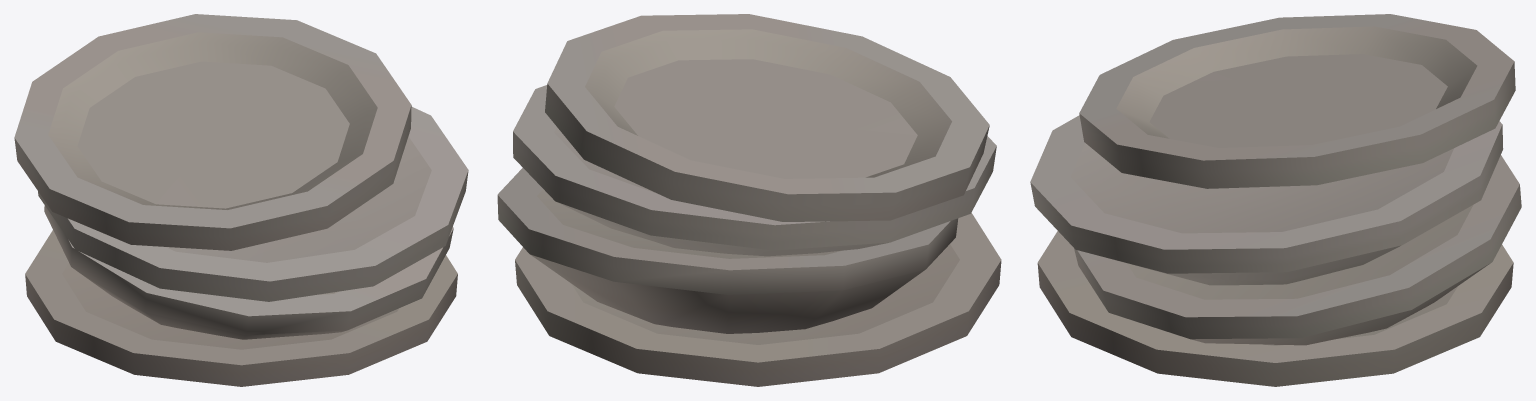
File: kay-pilha-pratos.gltf
The picture shows the model from 3 angles, left to right: view 1: azimuth 30°, elevation 25°; view 2: azimuth 150°, elevation 25°; view 3: azimuth 270°, elevation 25°; orthographic projection. The views are drawn at different scales.
Parts seen in each view (by area): view 1: plate_stack; view 2: plate_stack; view 3: plate_stack.
Part boxes in pixels (x1,y1,x2,y2): plate_stack: (14, 14, 468, 386); plate_stack: (497, 14, 1001, 386); plate_stack: (1030, 14, 1521, 386).
Bounding box in the file's own units: 0.6481 × 0.3666 × 0.6513.
Materials: 1 (1 with a texture image).
